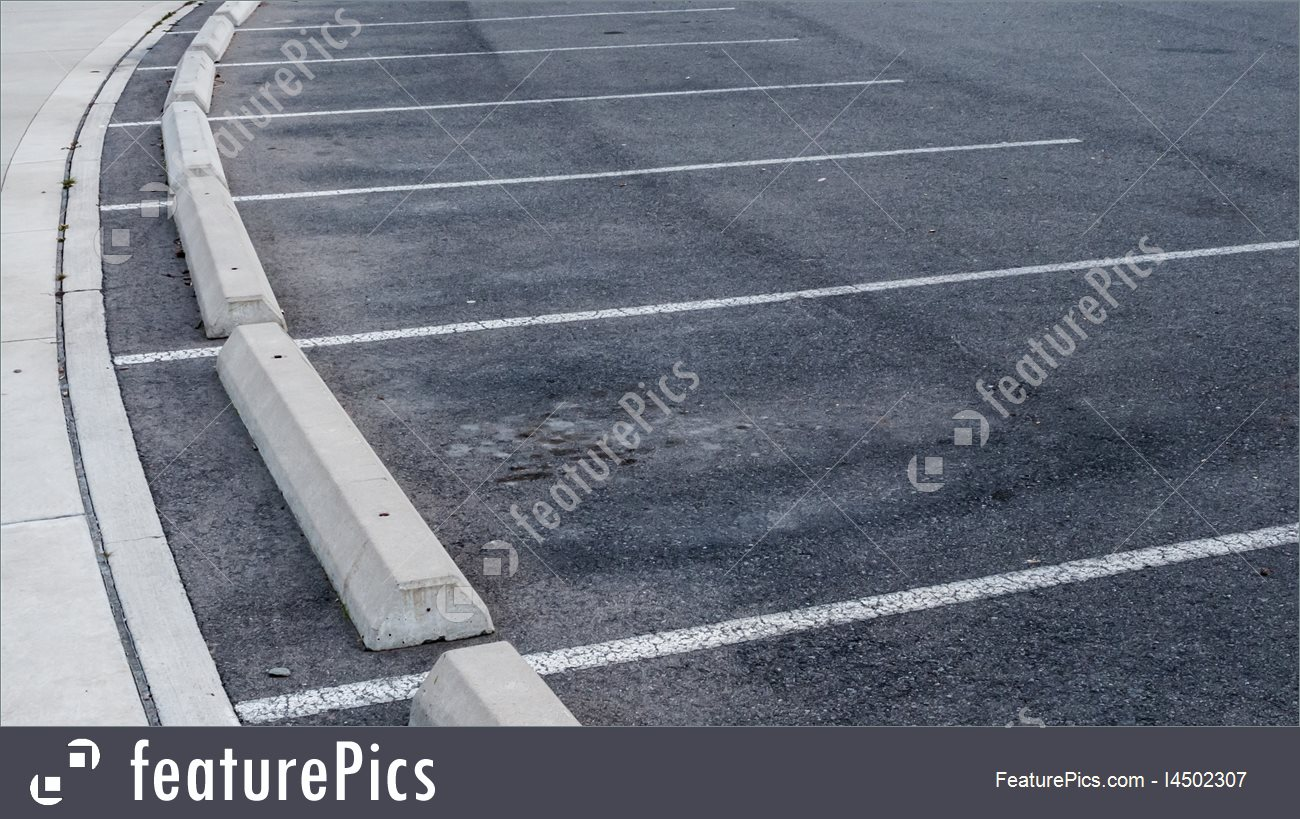empyt_space: (107, 244, 1300, 729), (73, 135, 1300, 371), (86, 79, 1107, 216), (105, 34, 907, 128), (128, 2, 823, 73)
